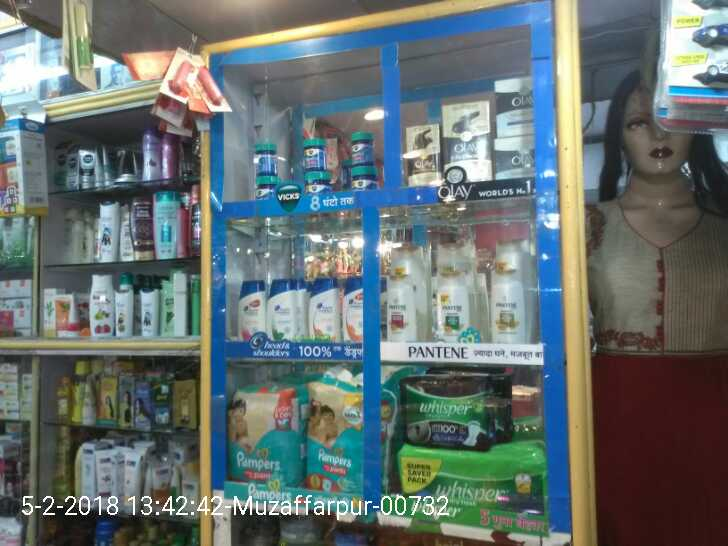vicks: (246, 128, 381, 196)
